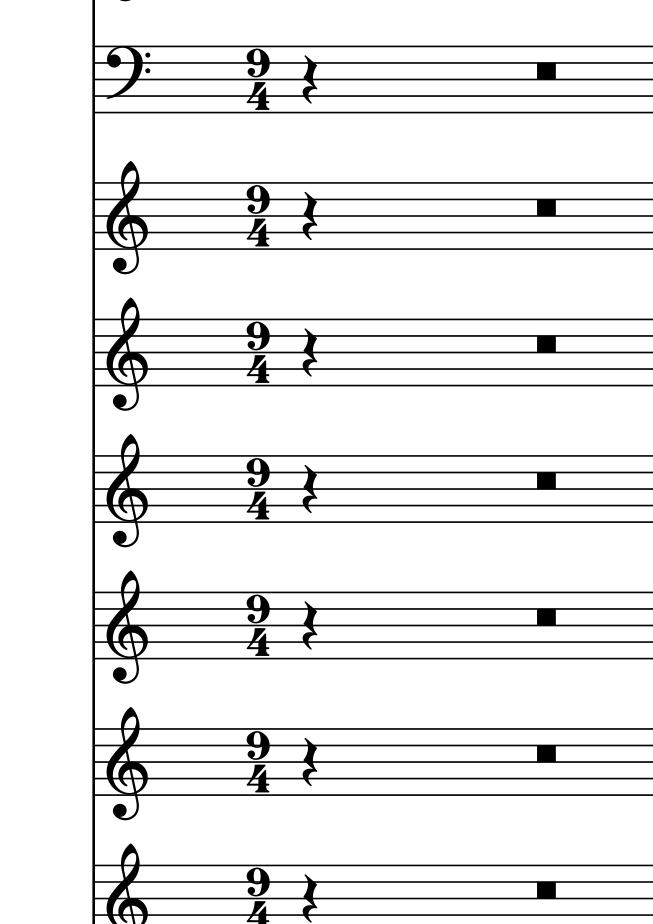4: (244, 215, 273, 249), (244, 761, 273, 795), (244, 78, 272, 113), (244, 353, 272, 385), (244, 490, 272, 521), (244, 627, 272, 658), (244, 897, 273, 924)
9: (243, 182, 275, 217), (243, 320, 275, 354), (242, 592, 273, 626), (242, 455, 272, 489), (243, 47, 273, 79), (244, 865, 273, 898), (242, 731, 271, 761)
Fclef: (103, 43, 151, 114)
Gclef: (105, 159, 151, 277), (105, 569, 151, 687), (105, 706, 151, 824), (105, 297, 151, 414), (105, 433, 151, 550), (105, 842, 150, 924)
Rests4: (299, 598, 321, 652), (299, 189, 321, 242), (299, 326, 321, 379), (299, 462, 321, 515), (299, 735, 321, 788), (299, 53, 321, 105), (299, 872, 321, 923)
Single_barline: (86, 47, 102, 112), (87, 319, 101, 387), (88, 455, 102, 523), (87, 184, 101, 250), (88, 594, 102, 659), (88, 730, 102, 795), (88, 865, 102, 923)
TimeSig: (243, 319, 273, 386), (244, 182, 273, 249), (244, 591, 272, 659), (244, 728, 272, 796), (244, 46, 272, 113), (244, 455, 272, 522), (243, 864, 272, 924)
